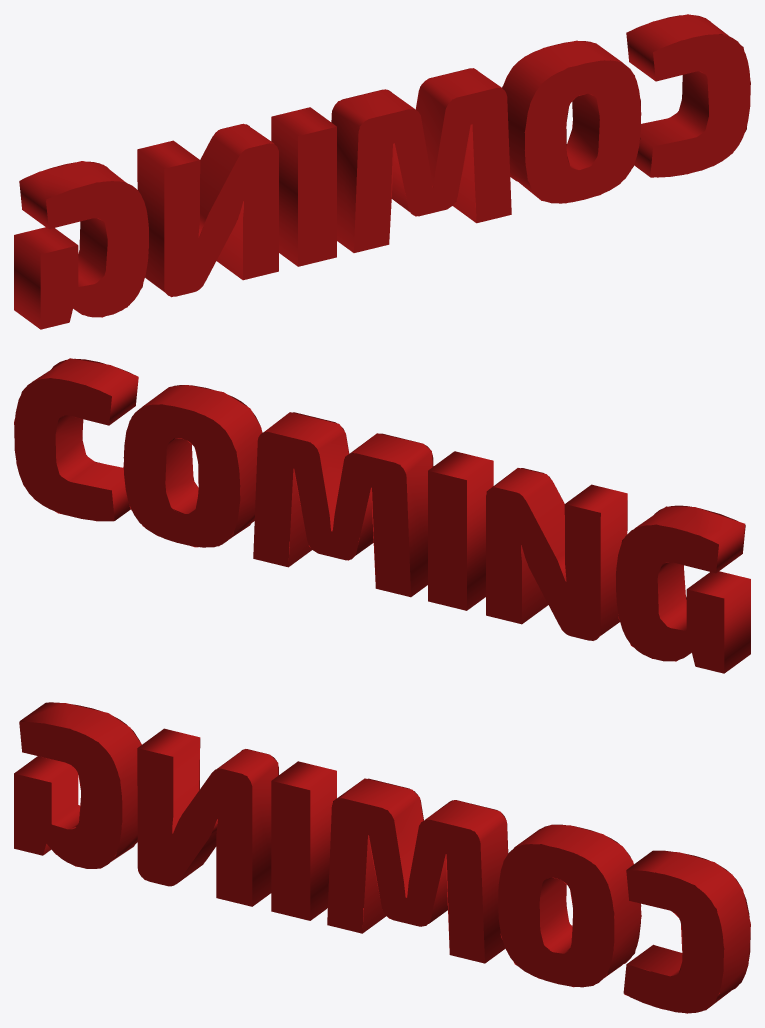
File: coming.fbx
The picture shows the model from 3 angles, top to bottom: view 1: azimuth 30°, elevation 25°; view 2: azimuth 150°, elevation 25°; view 3: azimuth 330°, elevation 25°; orthographic projection.
Visible parts, largest first — view 1: Text; view 2: Text; view 3: Text.
Part boxes in pixels (x1,y1,x2,y2): Text: (14, 14, 750, 329); Text: (14, 358, 750, 673); Text: (14, 702, 750, 1013).
Size of the model in its own units: 12.29 by 2.26 by 0.8.
